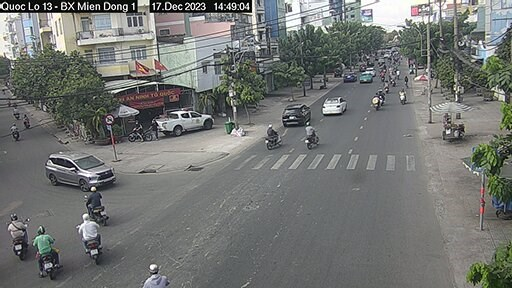car: (45, 142, 127, 189), (149, 110, 220, 145), (281, 97, 312, 127), (322, 91, 345, 126)
motorbike: (25, 226, 61, 268), (84, 182, 115, 226), (69, 215, 98, 249), (8, 209, 27, 255), (298, 122, 317, 149), (263, 123, 280, 151)
